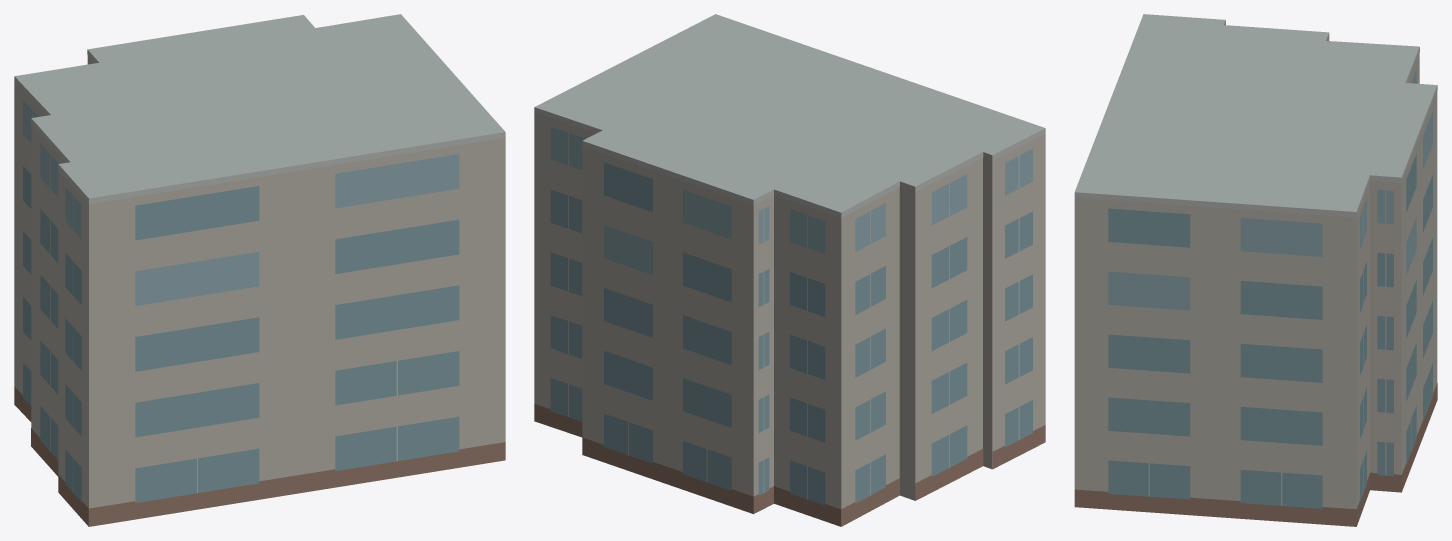
The model's file is survey-upis-32525002.glb.
3 views of the same model, side by side, from view 1: azimuth 30°, elevation 25°; view 2: azimuth 150°, elevation 25°; view 3: azimuth 270°, elevation 25° (orthographic). The views are drawn at different scales.
Visible parts, largest first — view 1: survey-upis-32525002.tmp; view 2: survey-upis-32525002.tmp; view 3: survey-upis-32525002.tmp.
Boxes of the visible parts, bbox=[...] form: survey-upis-32525002.tmp: bbox=[14, 14, 505, 526]; survey-upis-32525002.tmp: bbox=[534, 14, 1045, 526]; survey-upis-32525002.tmp: bbox=[1074, 14, 1437, 526].
Bounding box in the file's own units: 18.89 × 14 × 14.63.
